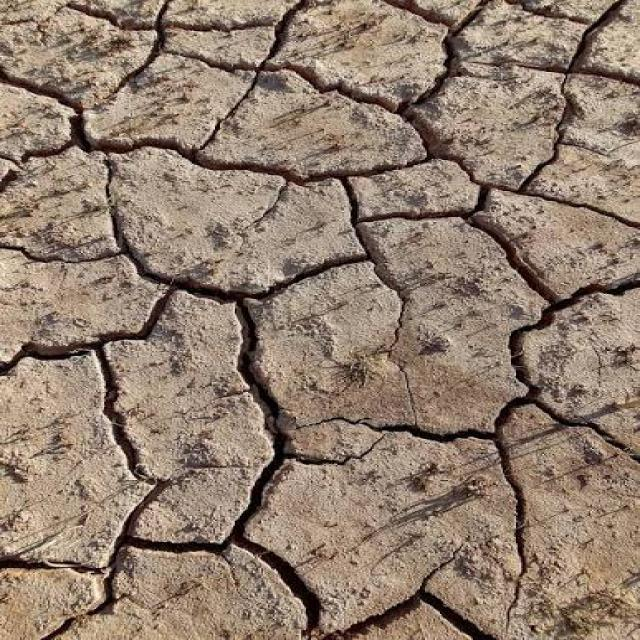suelo_seco: (99, 30, 567, 572)
